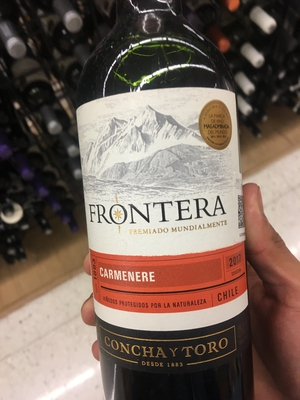frontera carmenere: (69, 54, 261, 373)
